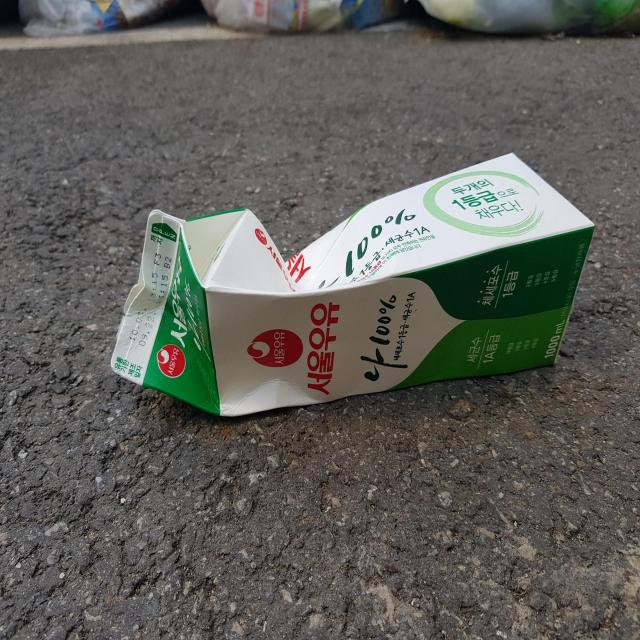paperpack: (111, 152, 595, 416)
